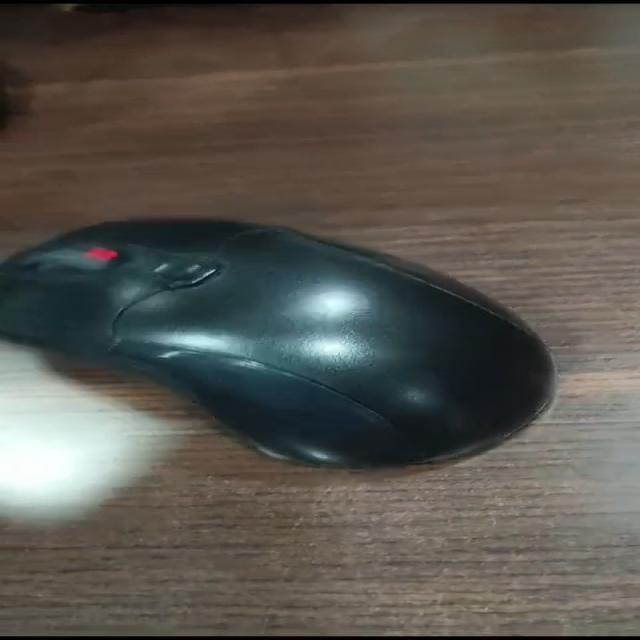Mouse: (17, 157, 580, 485)
